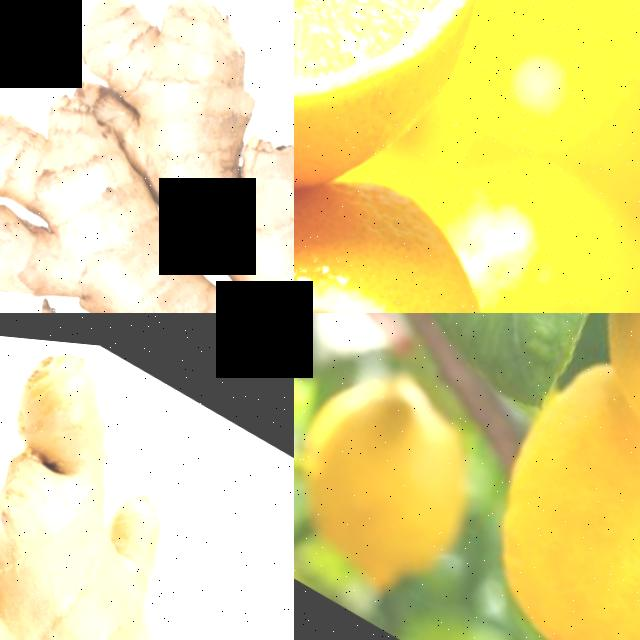ginger: (0, 313, 294, 640), (0, 0, 294, 313)
lemon: (433, 365, 640, 640), (294, 0, 526, 203), (294, 231, 530, 313)
